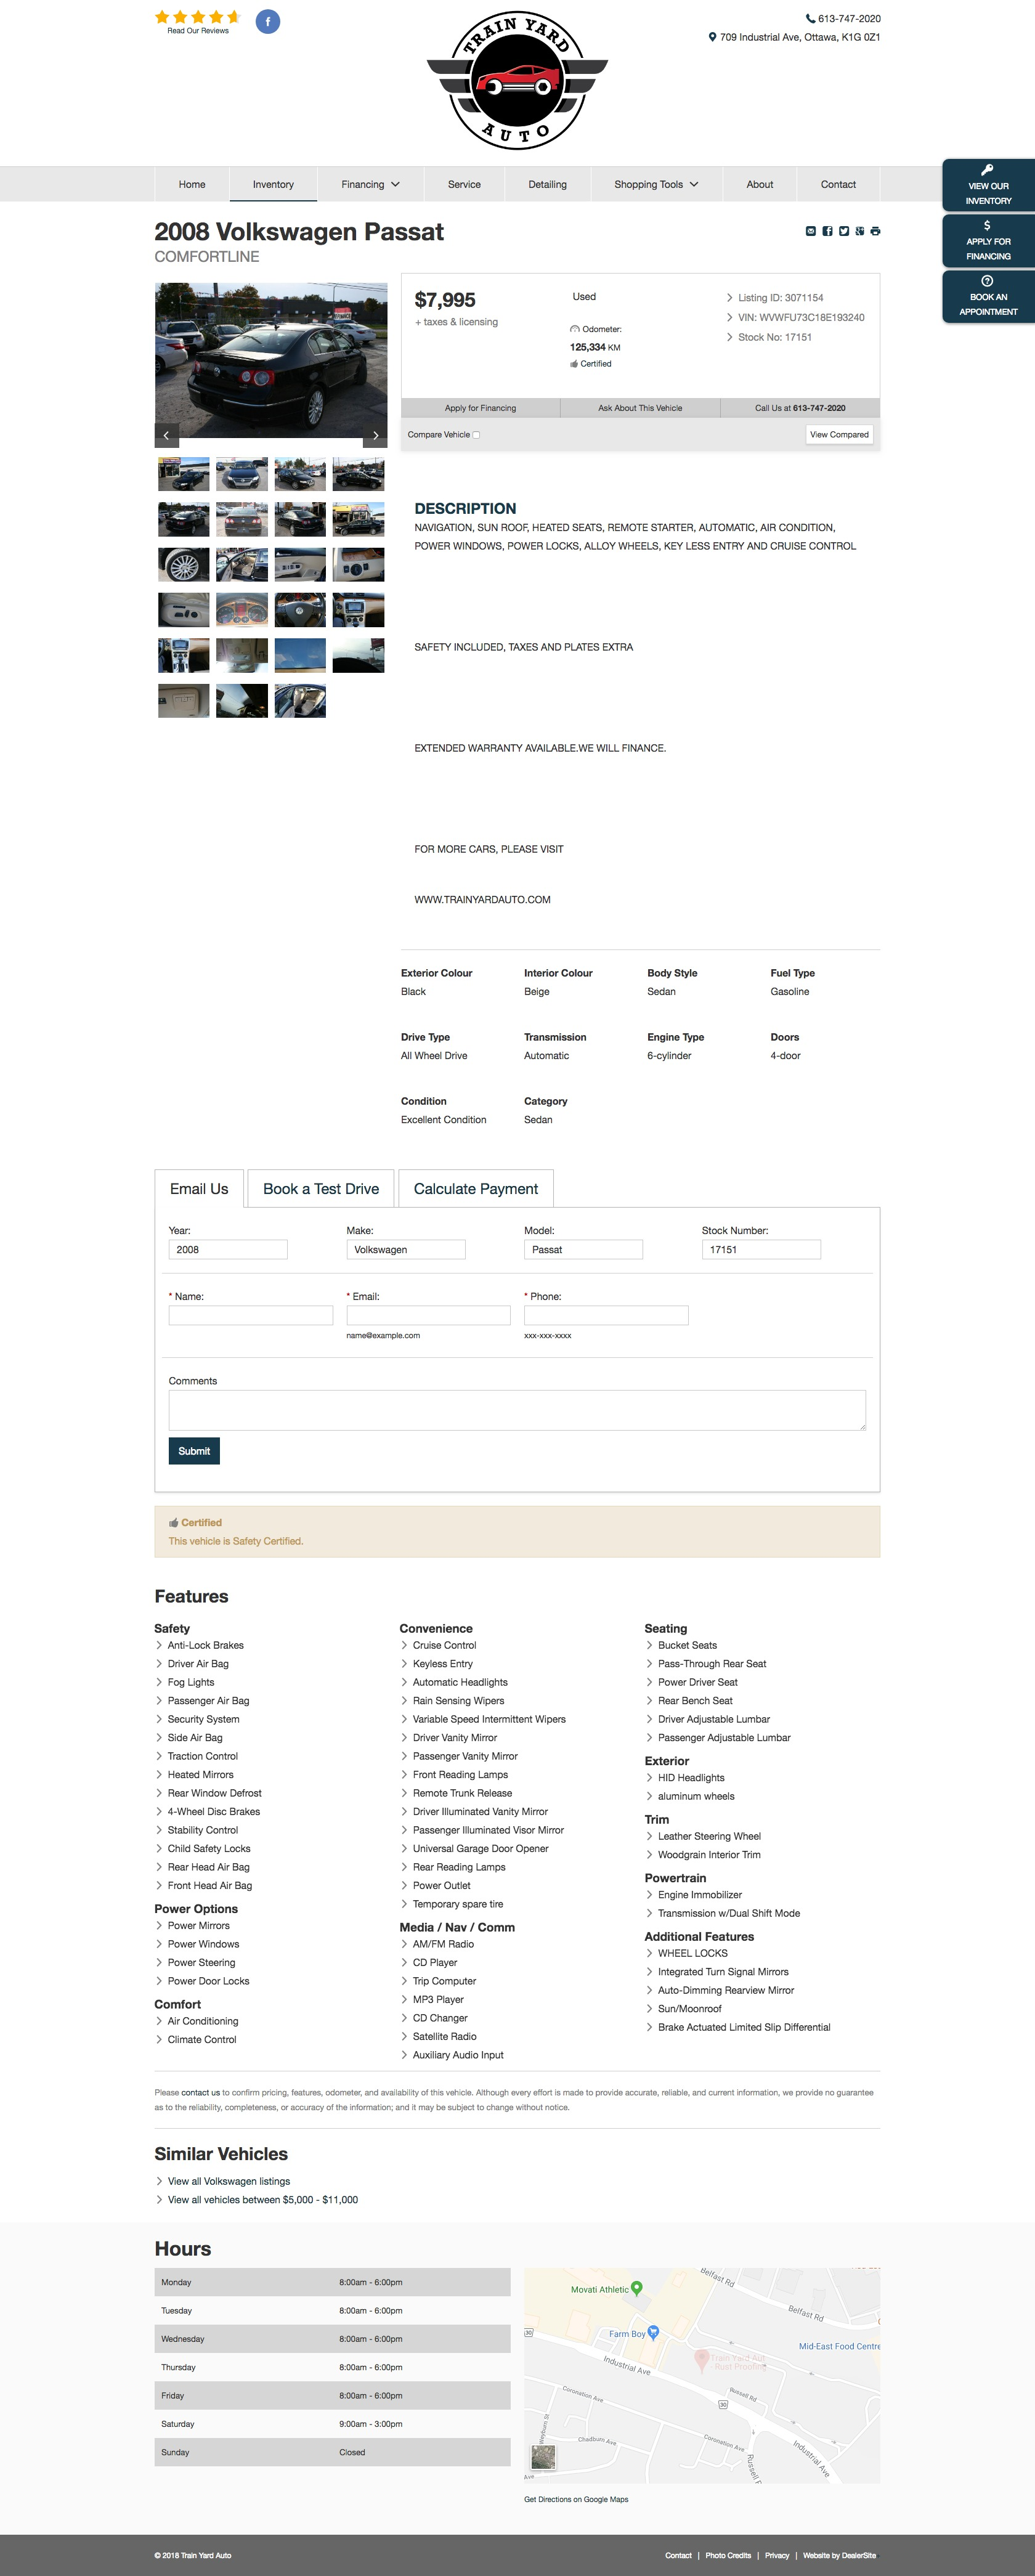car: (373, 432, 379, 442)
